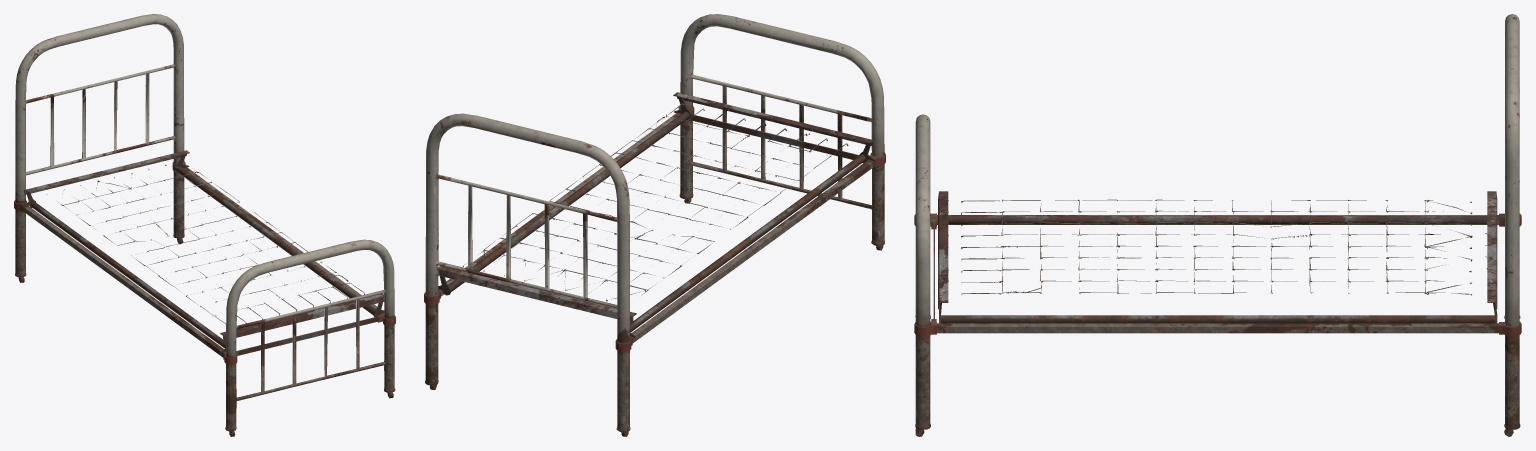
Rendered from old_bed_frame.glb.
3 renders of one model, left to right at view 1: azimuth 30°, elevation 25°; view 2: azimuth 150°, elevation 25°; view 3: azimuth 270°, elevation 25°, orthographic. The views are drawn at different scales.
Parts seen in each view (by area): view 1: old_bed_frame; view 2: old_bed_frame; view 3: old_bed_frame.
Part boxes in pixels (bbox=[...]): old_bed_frame: bbox=[14, 14, 395, 436]; old_bed_frame: bbox=[424, 14, 885, 436]; old_bed_frame: bbox=[914, 14, 1521, 436].
Size of the model in its own units: 0.9047 by 1.2 by 2.
1 material, 1 textured.
